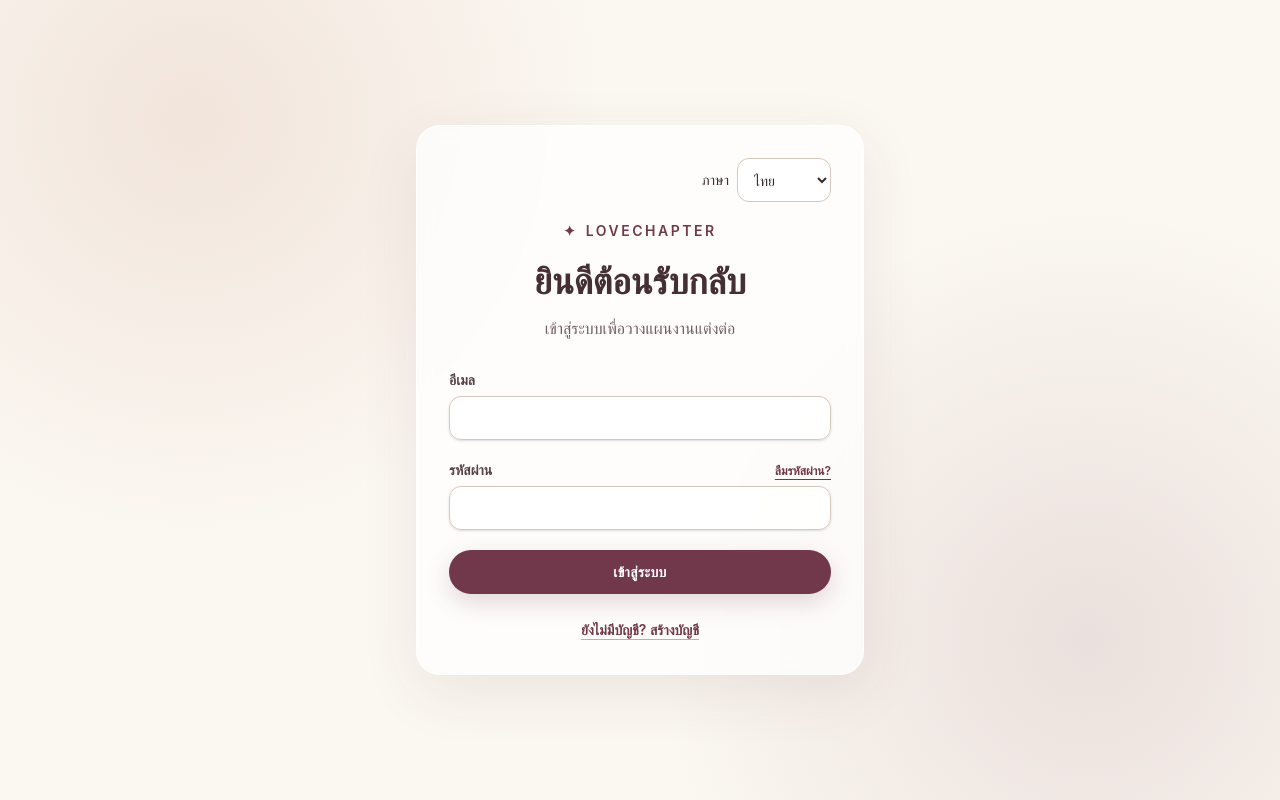
Test case: SignInForm › renders Thai controls and never shows an unknown backend message
The width and height of the screenshot is (1280, 800).
Type "c@example.test" into the field labelled "อีเมล" at (640, 418), box x1=449 y1=396 x2=831 y2=440
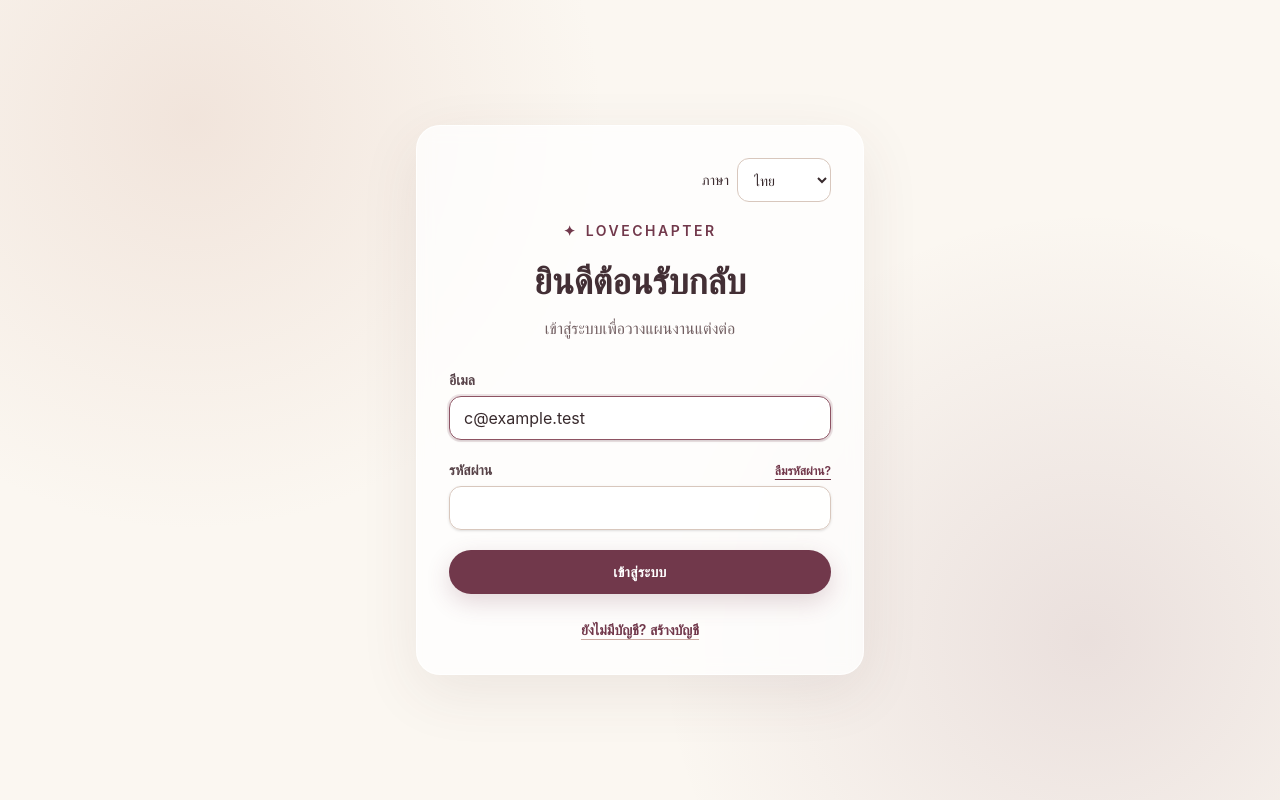
Type "wrong password phrase" into the password field labelled "รหัสผ่าน" at (640, 508), box x1=449 y1=486 x2=831 y2=530
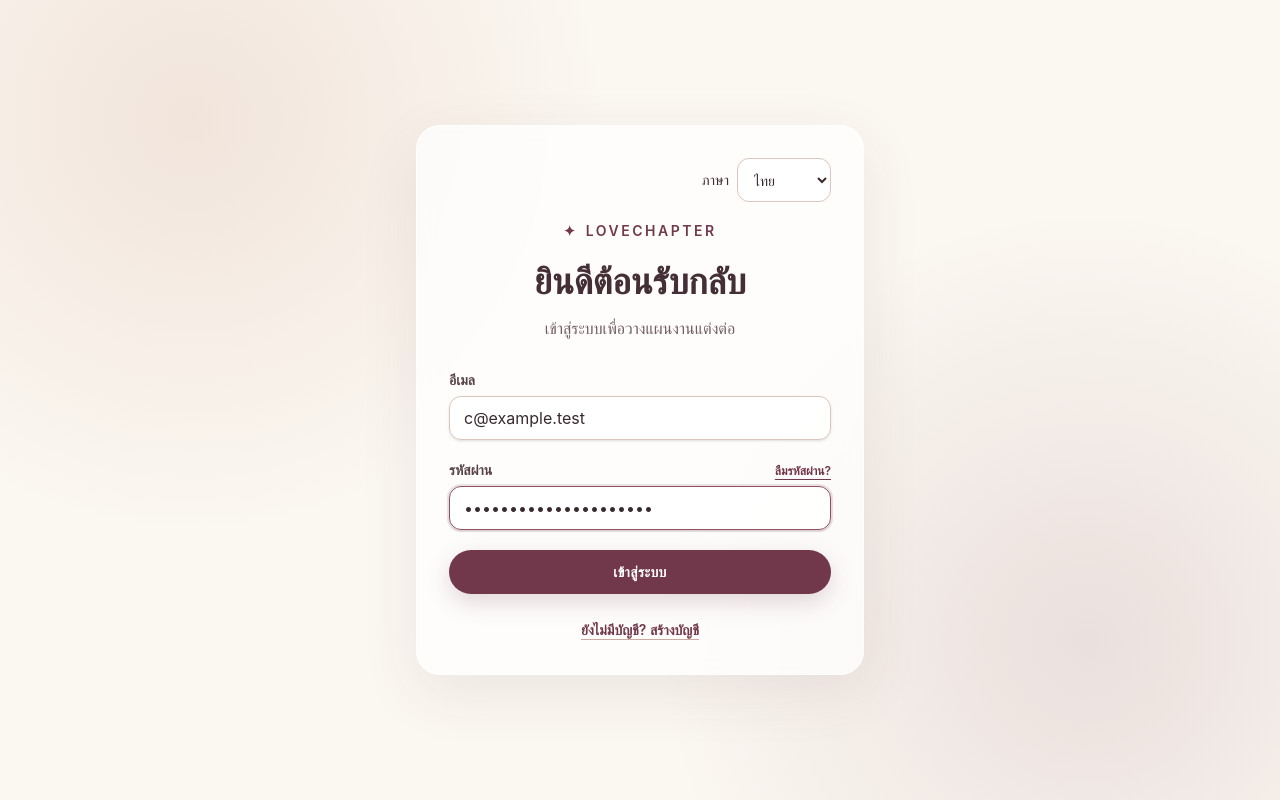
Click the button "เข้าสู่ระบบ" at (640, 572), box x1=449 y1=550 x2=831 y2=594
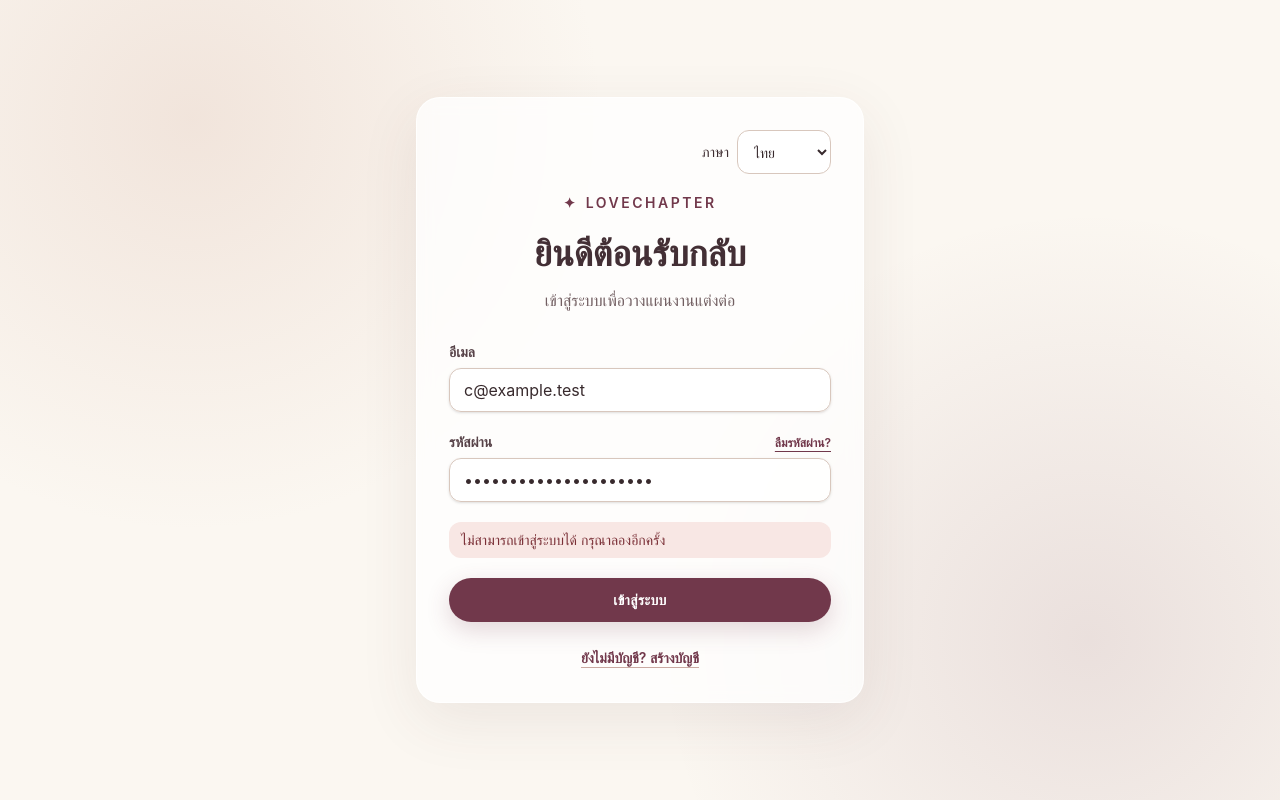
Now the message reads "ไม่สามารถเข้าสู่ระบบได้ กรุณาลองอีกครั้ง", box x1=461 y1=531 x2=665 y2=548
